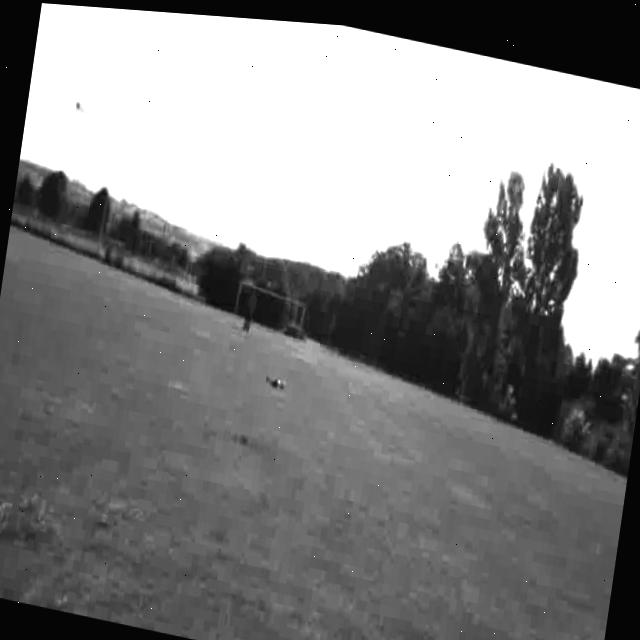drone: (260, 363, 288, 390)
